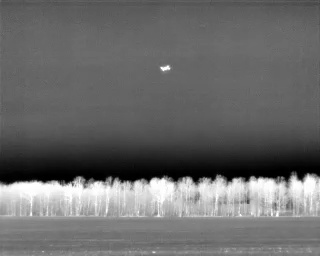DRONE: (156, 60, 175, 76)
